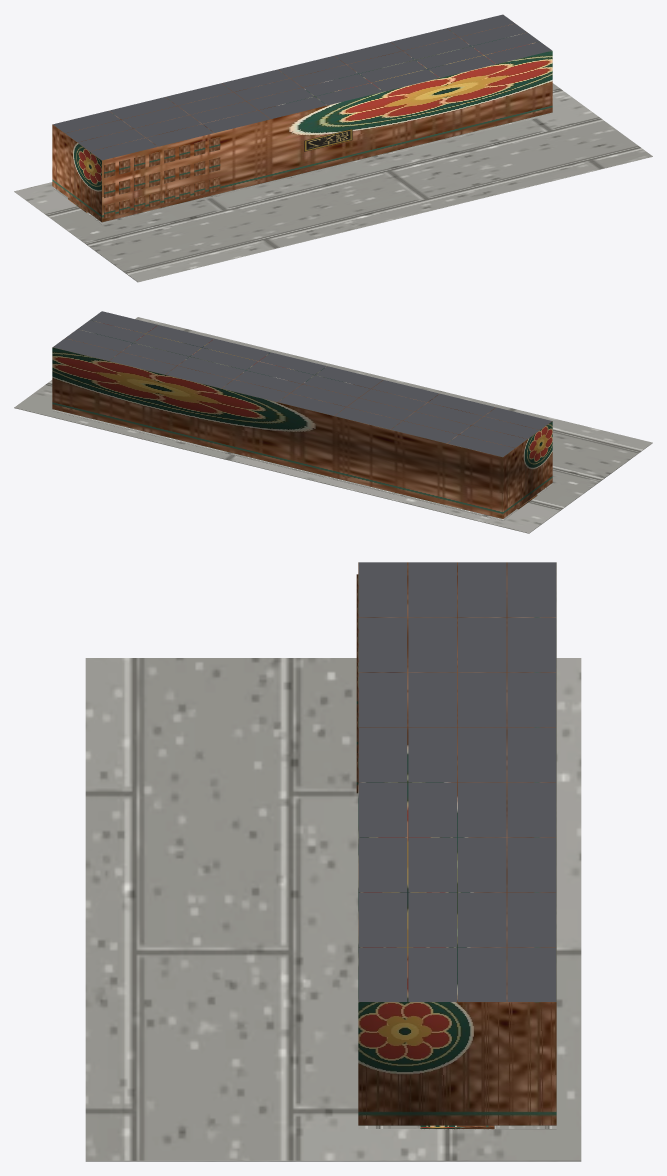
3 renders of one model, top to bottom at view 1: azimuth 30°, elevation 25°; view 2: azimuth 150°, elevation 25°; view 3: azimuth 270°, elevation 25°, orthographic. The views are drawn at different scales.
Parts seen in each view (by area): view 1: 11140_02_04548_019_01_L2__base, 11140_02_04548_019_02_L2__body, 11140_02_04548_019_03_L2__roof, 11140_02_04548_019_05_L2__openings, 11140_02_04548_019_04_L2__sign; view 2: 11140_02_04548_019_02_L2__body, 11140_02_04548_019_03_L2__roof, 11140_02_04548_019_01_L2__base; view 3: 11140_02_04548_019_01_L2__base, 11140_02_04548_019_03_L2__roof, 11140_02_04548_019_02_L2__body.
Part boxes in pixels (x1,y1,x2,y2): 11140_02_04548_019_01_L2__base: (14, 83, 652, 282); 11140_02_04548_019_02_L2__body: (52, 23, 552, 222); 11140_02_04548_019_03_L2__roof: (53, 14, 551, 160); 11140_02_04548_019_05_L2__openings: (104, 137, 220, 218); 11140_02_04548_019_04_L2__sign: (304, 129, 352, 151); 11140_02_04548_019_02_L2__body: (52, 320, 552, 518); 11140_02_04548_019_03_L2__roof: (53, 311, 551, 456); 11140_02_04548_019_01_L2__base: (14, 317, 652, 533); 11140_02_04548_019_01_L2__base: (85, 658, 581, 1161); 11140_02_04548_019_03_L2__roof: (358, 562, 556, 1001); 11140_02_04548_019_02_L2__body: (358, 562, 556, 1129).
Size of the model in its own units: 96 by 11.42 by 40.
5 materials, 5 textured.
